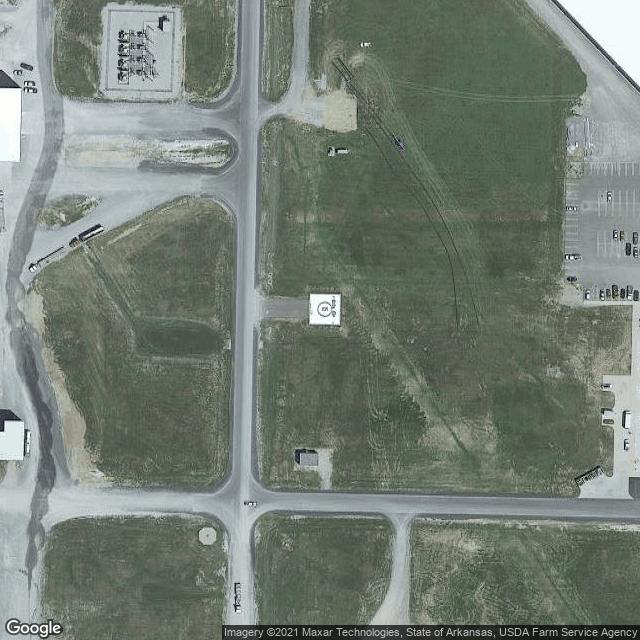Helipad: (307, 290, 343, 327)
